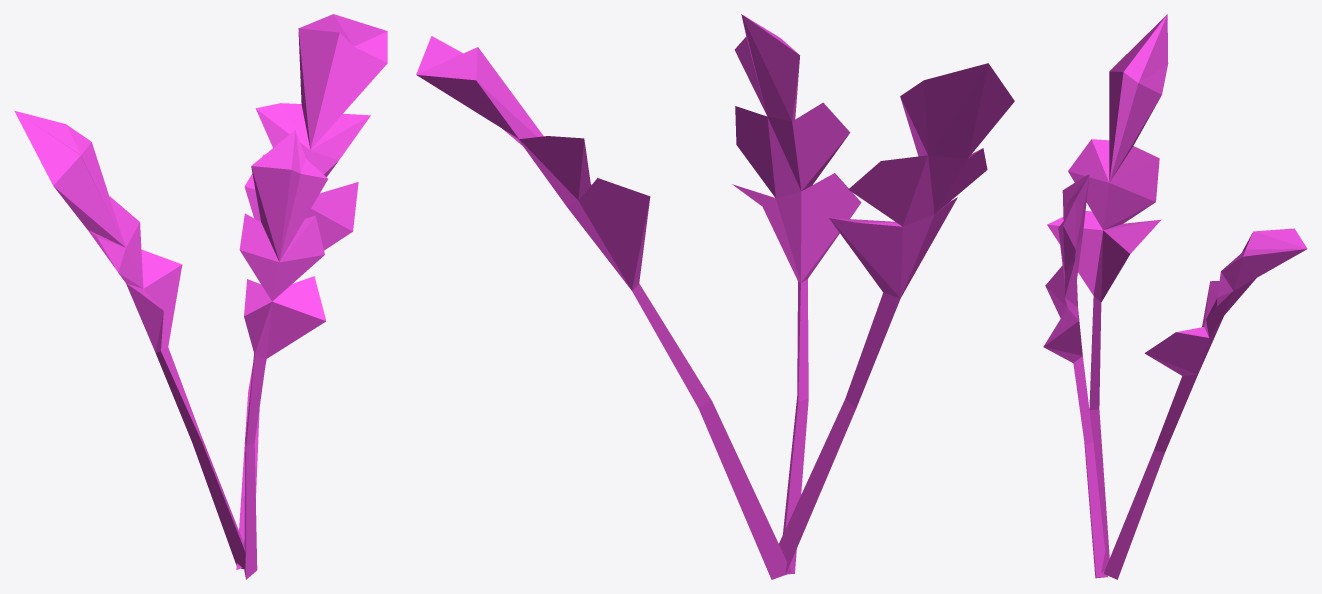
The model's file is SM_Parsnip_Plant_Sapling.fbx.
The picture shows the model from 3 angles, left to right: view 1: azimuth 30°, elevation 25°; view 2: azimuth 150°, elevation 25°; view 3: azimuth 270°, elevation 25°; orthographic projection. The views are drawn at different scales.
Parts seen in each view (by area): view 1: SM_Parsnip_Plant_Sapling; view 2: SM_Parsnip_Plant_Sapling; view 3: SM_Parsnip_Plant_Sapling.
Boxes of the visible parts, box(x1,y1,x2,y2) form: SM_Parsnip_Plant_Sapling: box(14, 14, 387, 579); SM_Parsnip_Plant_Sapling: box(416, 14, 1014, 579); SM_Parsnip_Plant_Sapling: box(1043, 14, 1307, 579).
Size of the model in its own units: 0.185 by 0.2096 by 0.1063.
